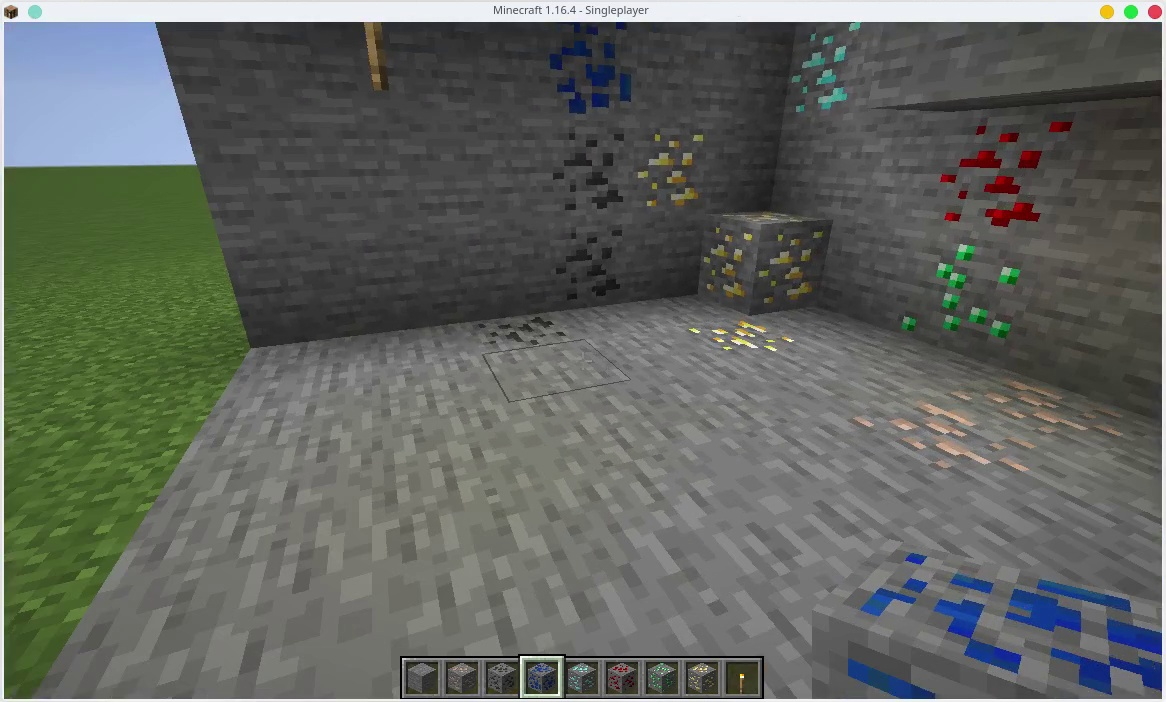gold: (706, 213, 828, 305), (625, 129, 711, 210), (691, 317, 798, 365), (688, 660, 720, 694)
